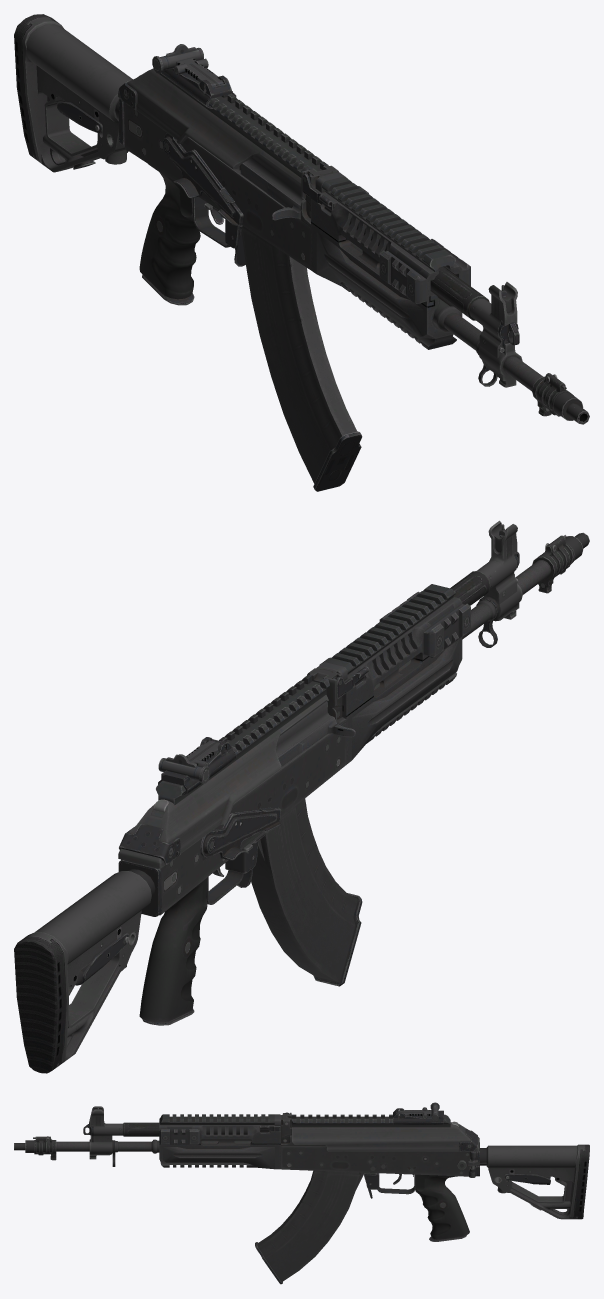
Rendered from raw.glb.
3 views of the same model, one above another, from view 1: azimuth 30°, elevation 25°; view 2: azimuth 150°, elevation 25°; view 3: azimuth 270°, elevation 25° (orthographic). The views are drawn at different scales.
Parts seen in each view (by area): view 1: voymastina_ak15_LOD0; view 2: voymastina_ak15_LOD0; view 3: voymastina_ak15_LOD0.
Boxes of the visible parts, x1,y1,x2,y2 form: voymastina_ak15_LOD0: (14, 14, 589, 491); voymastina_ak15_LOD0: (14, 520, 589, 1073); voymastina_ak15_LOD0: (14, 1102, 589, 1284).
Size of the model in its own units: 0.0571 by 0.264 by 0.7817.
1 material, 1 textured.
